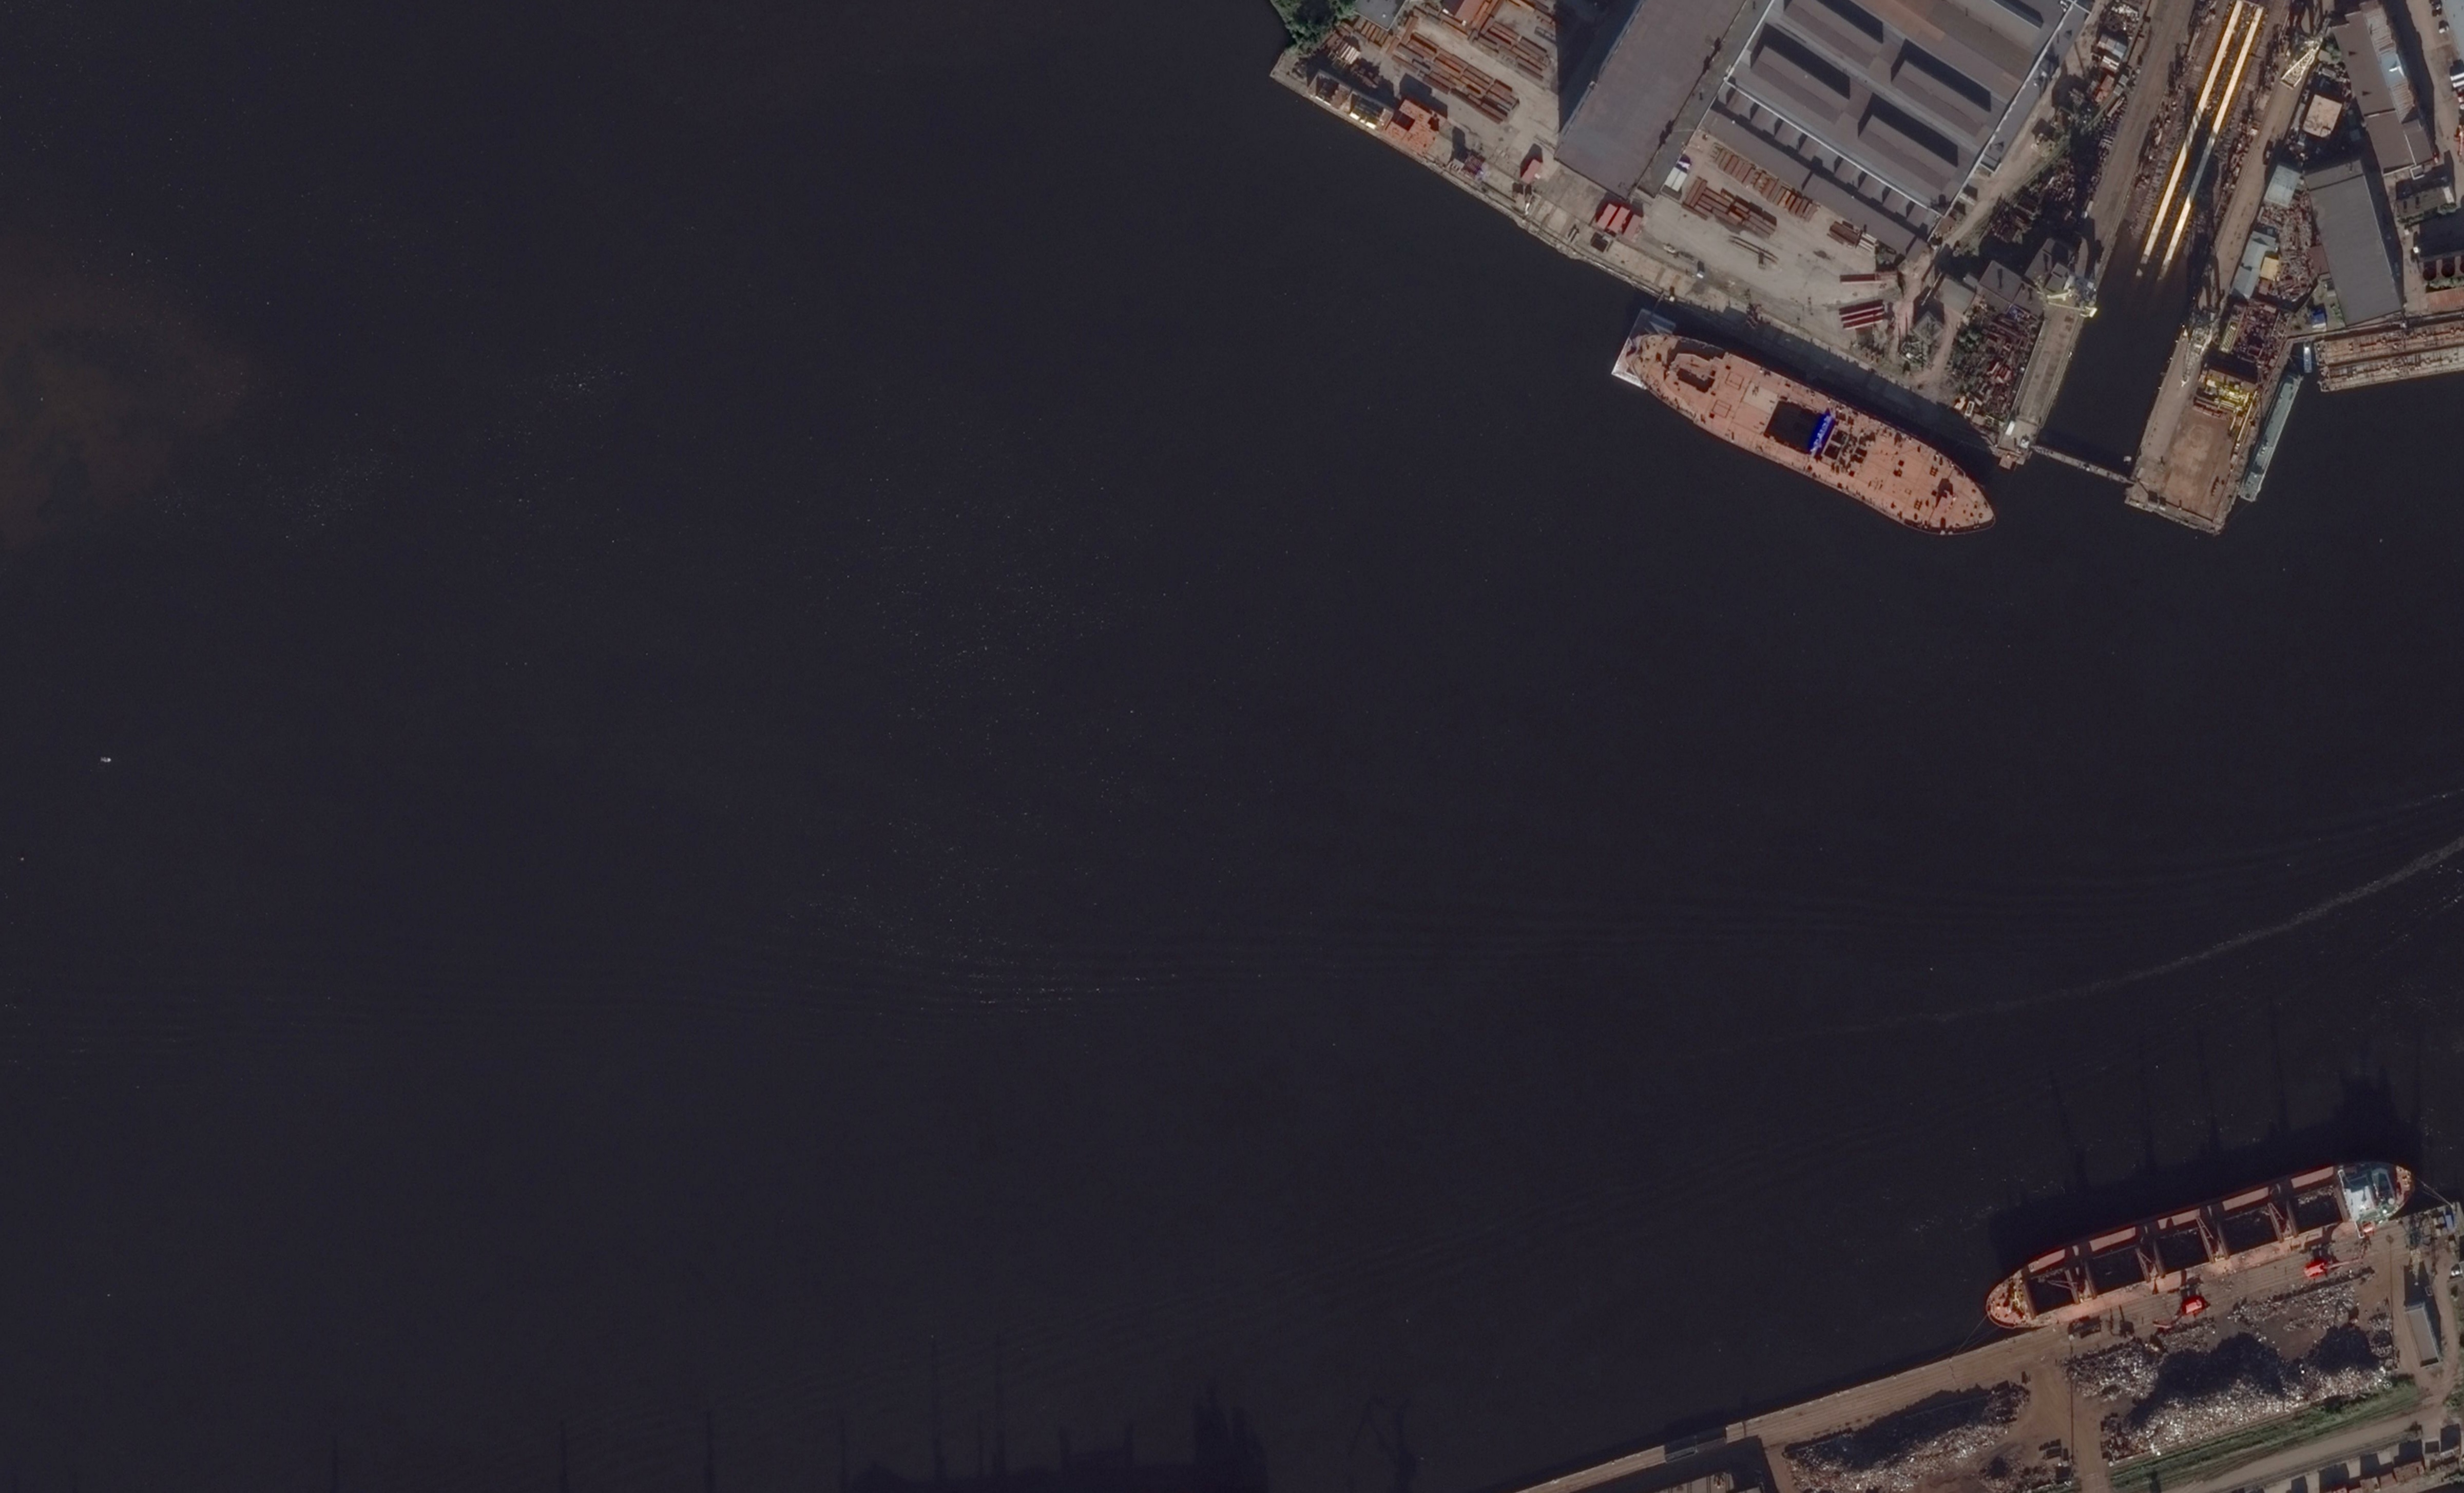boat: (1621, 331, 2001, 542), (1984, 1157, 2415, 1335), (100, 755, 113, 762)
